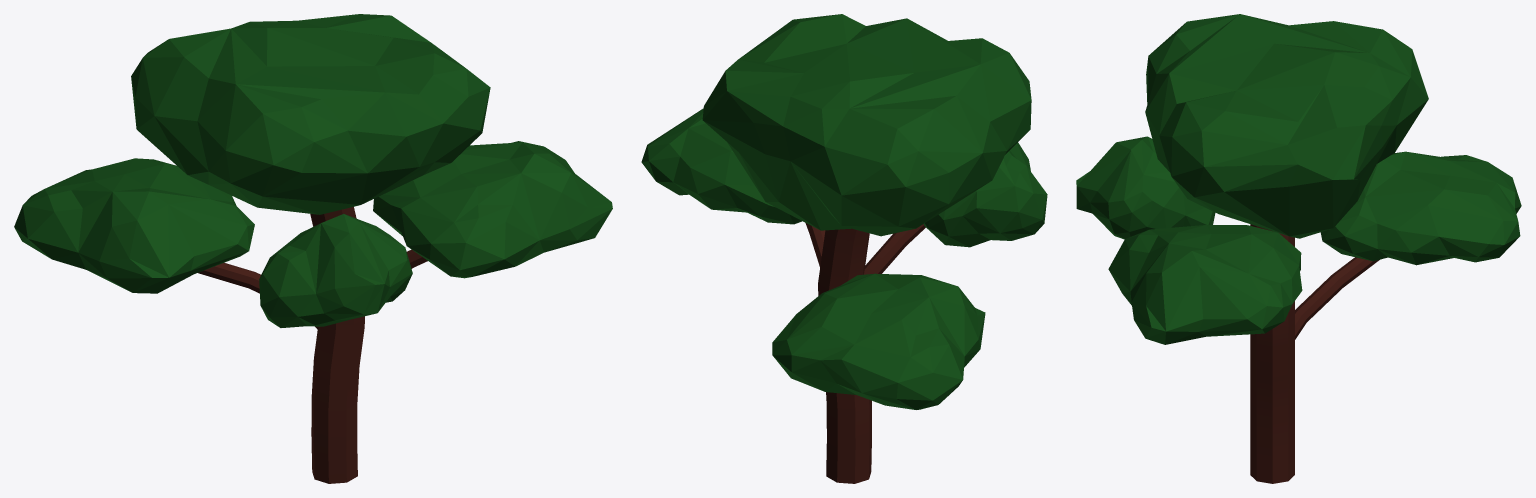
File: SM_tree_03.fbx
3 renders of one model, left to right at view 1: azimuth 30°, elevation 25°; view 2: azimuth 150°, elevation 25°; view 3: azimuth 270°, elevation 25°, orthographic. The views are drawn at different scales.
Parts seen in each view (by area): view 1: tree_03; view 2: tree_03; view 3: tree_03.
Part boxes in pixels (bbox=[...]): tree_03: bbox=[14, 14, 612, 483]; tree_03: bbox=[641, 14, 1047, 483]; tree_03: bbox=[1076, 14, 1521, 483].
Size of the model in its own units: 1362 by 1299 by 1286.
